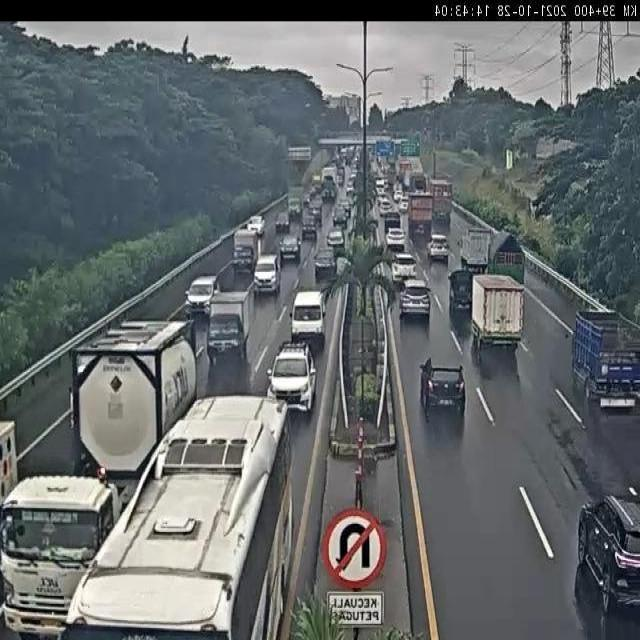Bus: (74, 404, 293, 640)
Car: (575, 493, 639, 614), (411, 345, 477, 426), (267, 339, 318, 416), (394, 276, 436, 318), (185, 275, 219, 319), (253, 252, 282, 293), (391, 253, 418, 286), (314, 248, 338, 282), (278, 234, 302, 264), (428, 235, 448, 262), (385, 228, 406, 253), (301, 209, 319, 238), (326, 228, 345, 250), (247, 215, 266, 237), (333, 205, 349, 228), (275, 211, 291, 234), (380, 199, 392, 216), (399, 200, 409, 213)
Truck: (0, 320, 195, 620), (574, 298, 639, 408), (472, 273, 526, 359), (205, 286, 256, 358), (452, 229, 493, 317), (493, 228, 530, 276), (428, 176, 456, 220), (233, 228, 260, 273), (407, 191, 433, 230)
Van: (290, 288, 327, 352)
